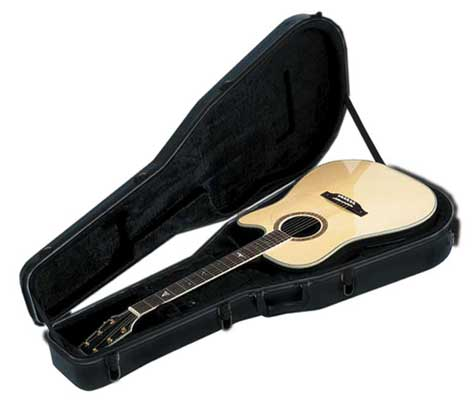guitar: (76, 158, 438, 362)
